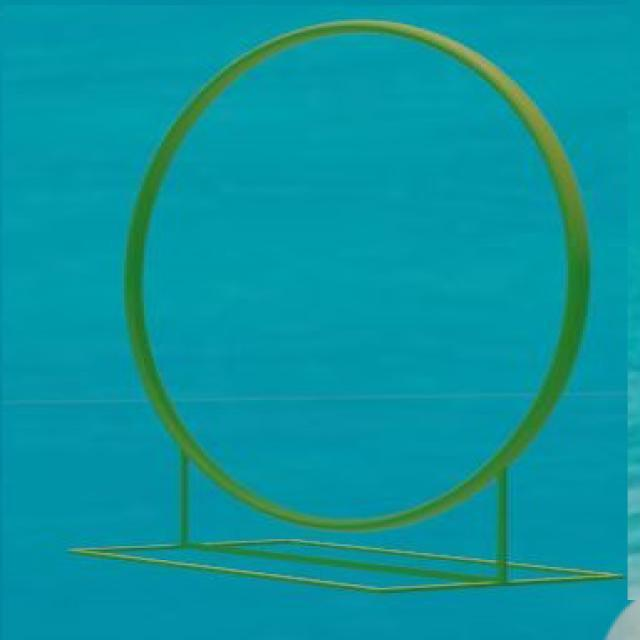Circle: (117, 22, 589, 529)
